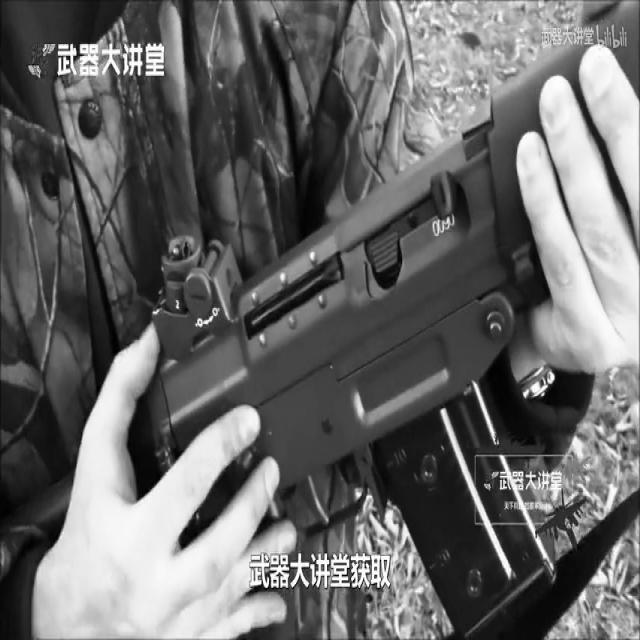Rifle: (75, 0, 640, 640)
